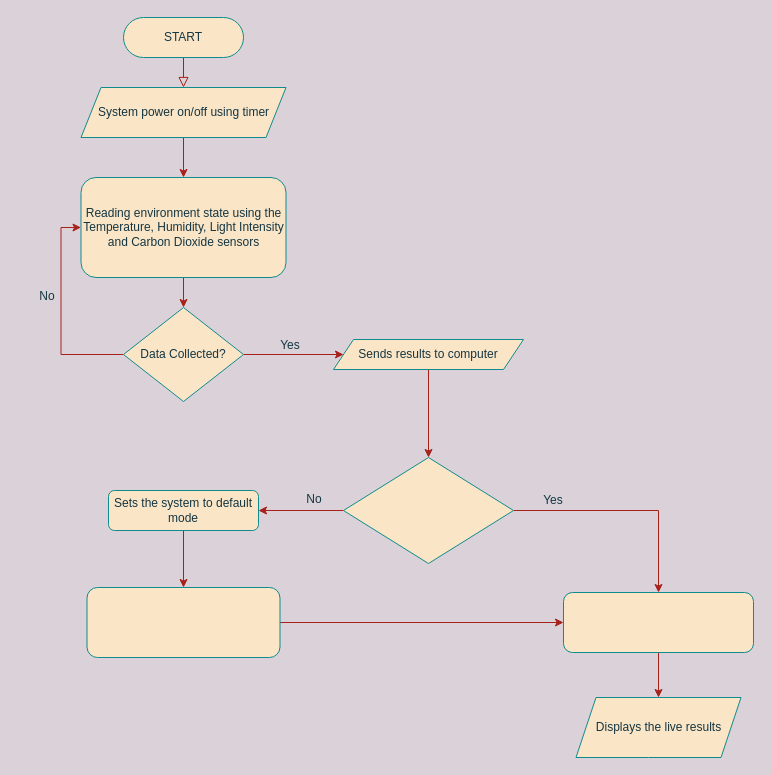
Image size: 771x775. Some labels were removed from this diagram. The shapes that lost their labels are listed below. From the top down, each one's centre as x and y in pixels, then its label:
[428,510]: Are all the climate status stable?
[183,622]: Adjusts any necessary requirements to stabilize the greenhouse climate
[658,622]: Updates the system & saves the data
